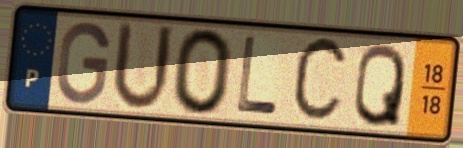C: (288, 32, 352, 129)
G: (53, 19, 113, 108)
L: (234, 34, 281, 119)
O: (171, 25, 236, 119)
Q: (350, 41, 408, 130)
U: (108, 18, 177, 115)
